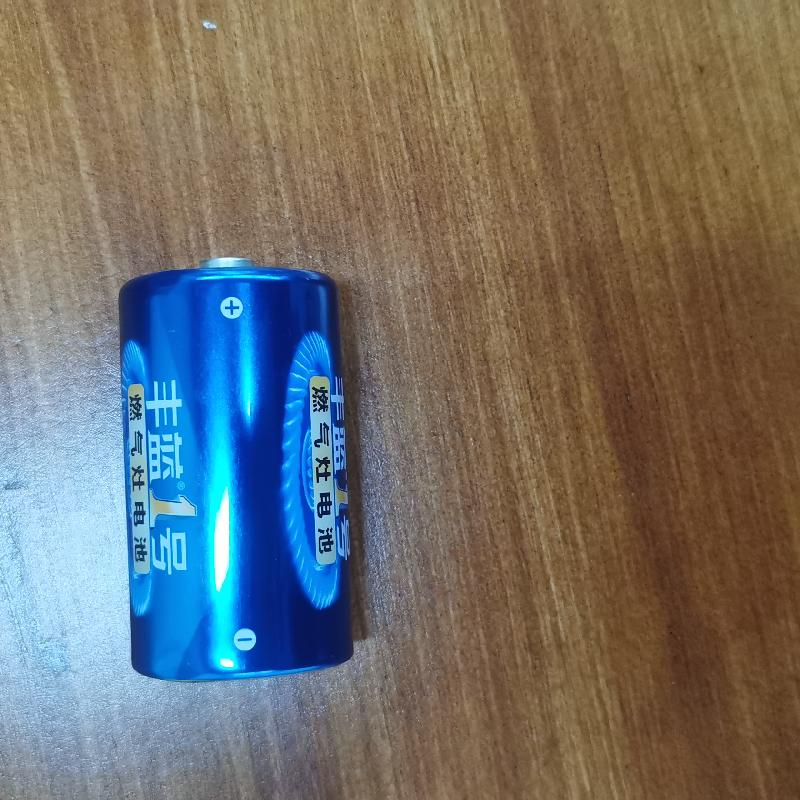battery: (114, 254, 352, 679)
